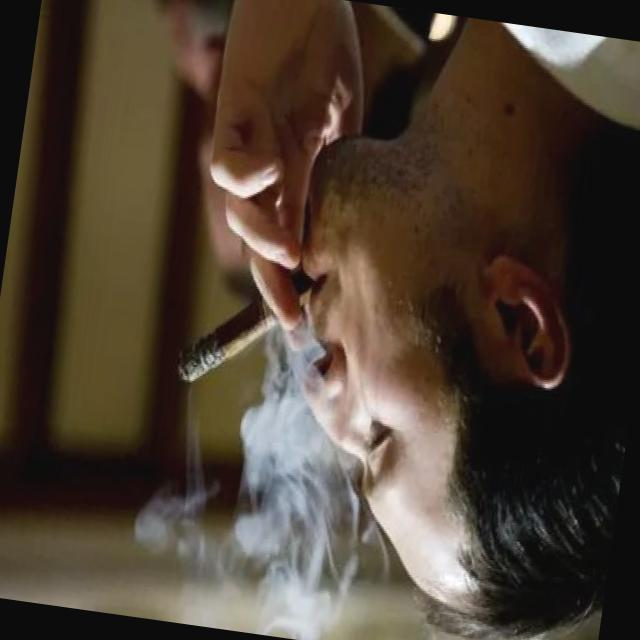smoke: (172, 252, 322, 406)
